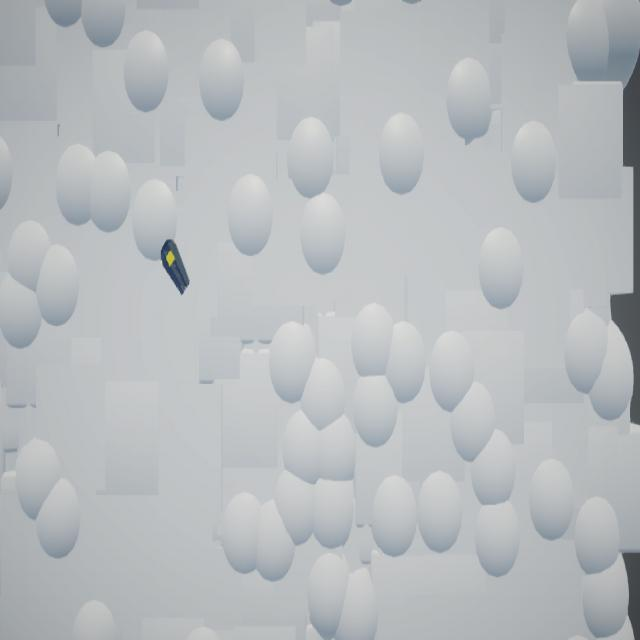handle_folk: (162, 240, 192, 297)
